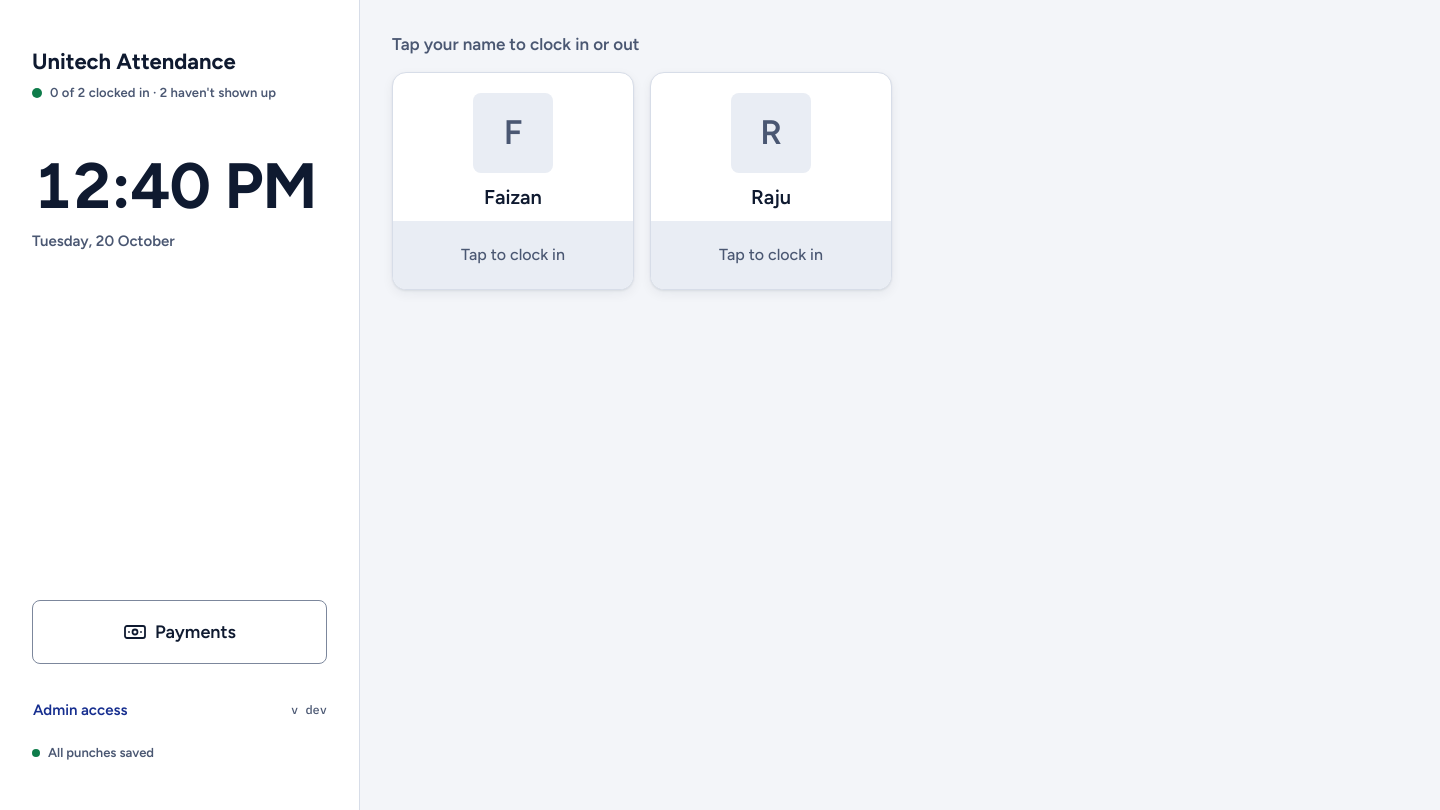
it: Kiosk · payments PIN › says it cannot check offline, and does not count that either
What coordinates should you click on to do the following:
click the button "Payments"
I would click on:
 (180, 632)
Its box is [32,600,327,664].
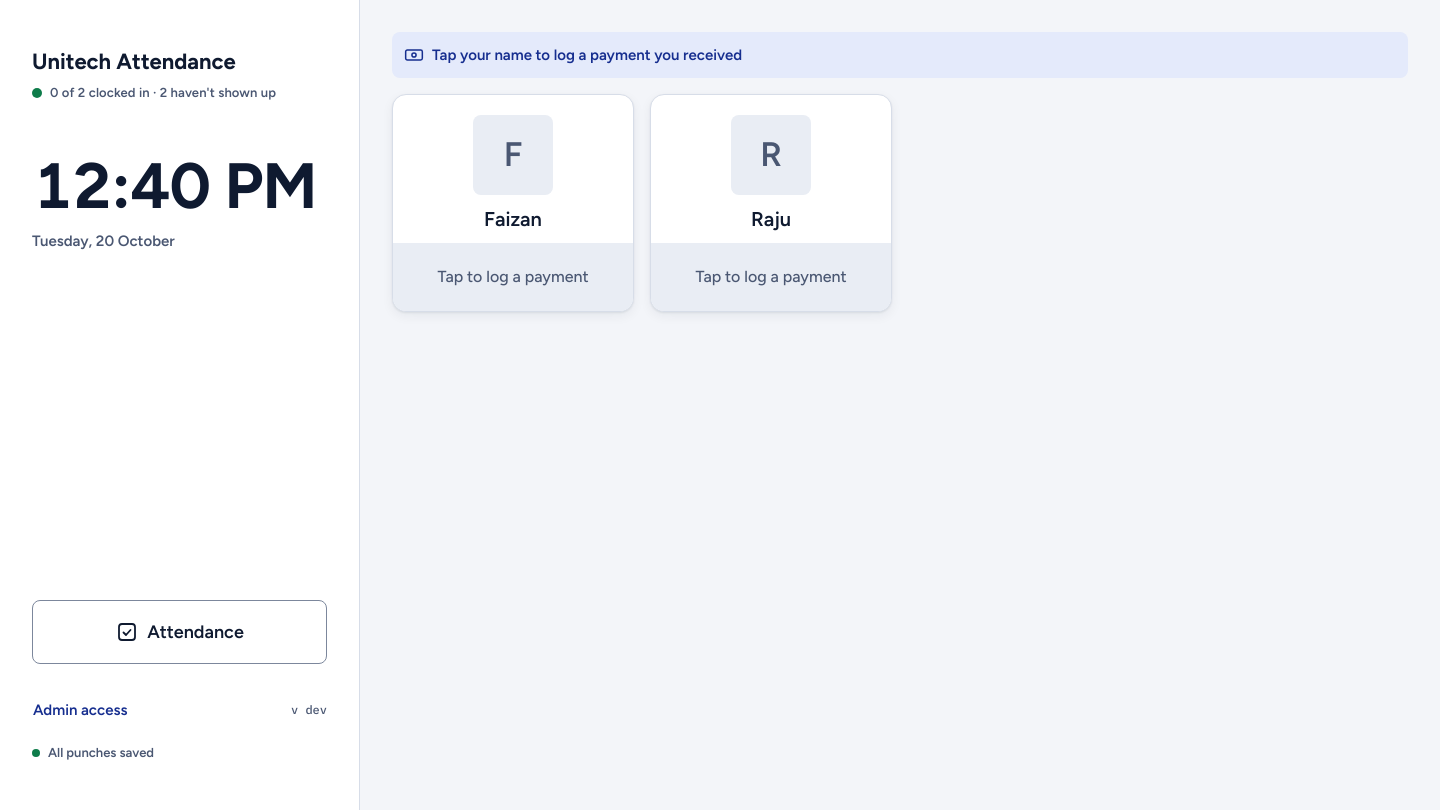
What coordinates should you click on to do the following:
click the button "R Raju Tap to log a payment"
I would click on:
 (771, 203)
Its box is [650,94,892,312].
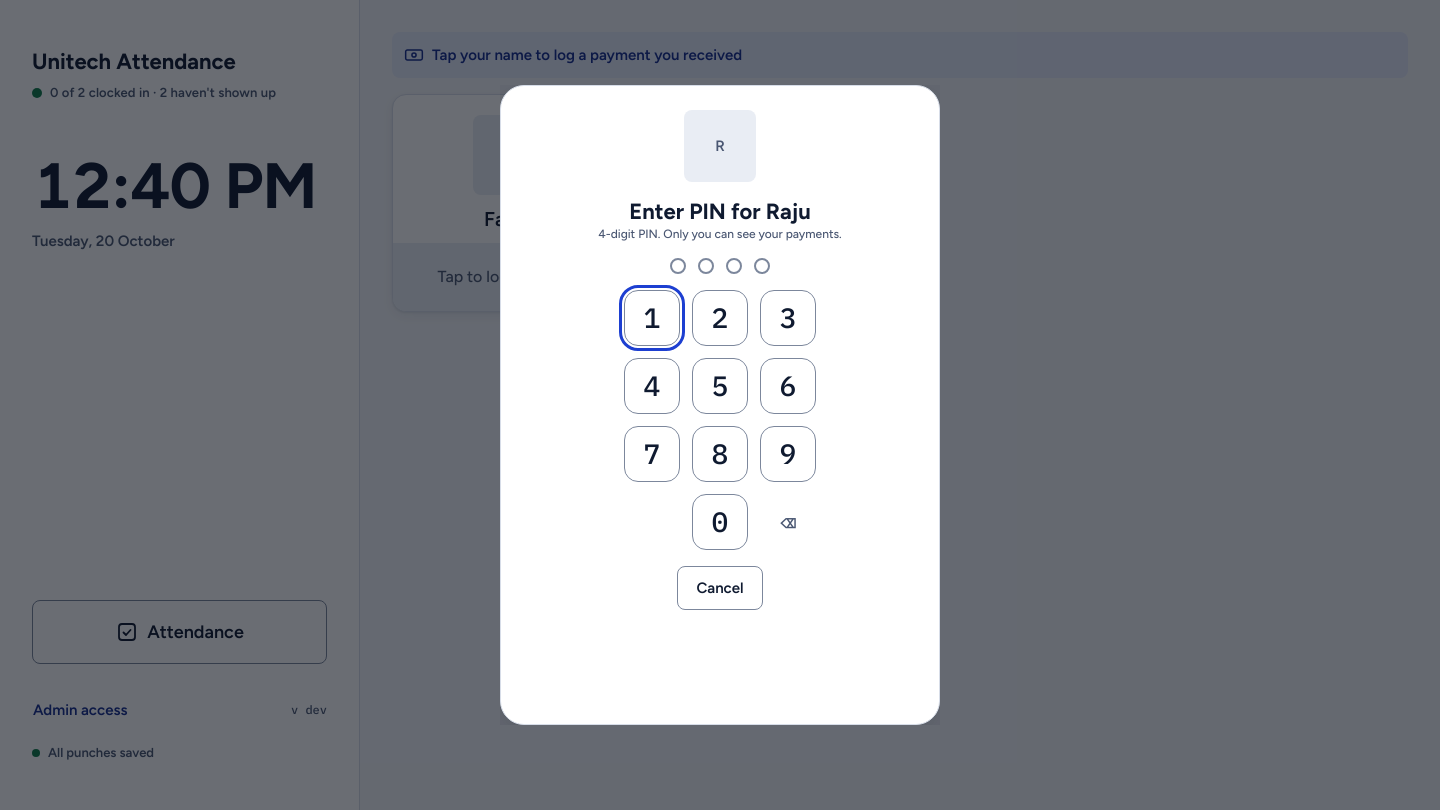
expect the heading "Enter PIN for Raju" is shown: met, box [629,198,811,225]
What coordinates should you click on to do the following:
click the button "4"
I would click on:
 (652, 386)
Its box is [624,358,680,414].
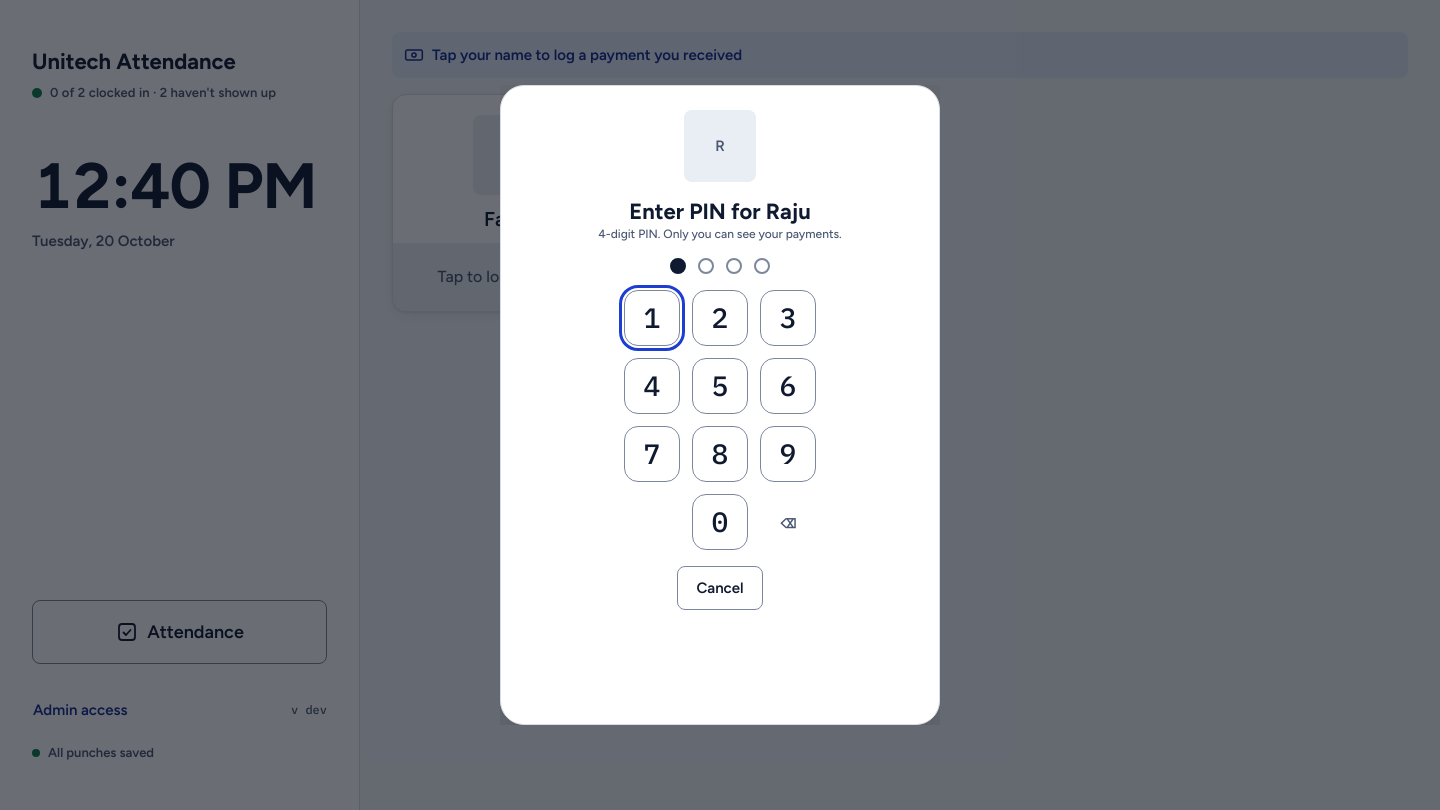
What coordinates should you click on to do the following:
click the button "8"
I would click on:
 (720, 454)
Its box is [692,426,748,482].
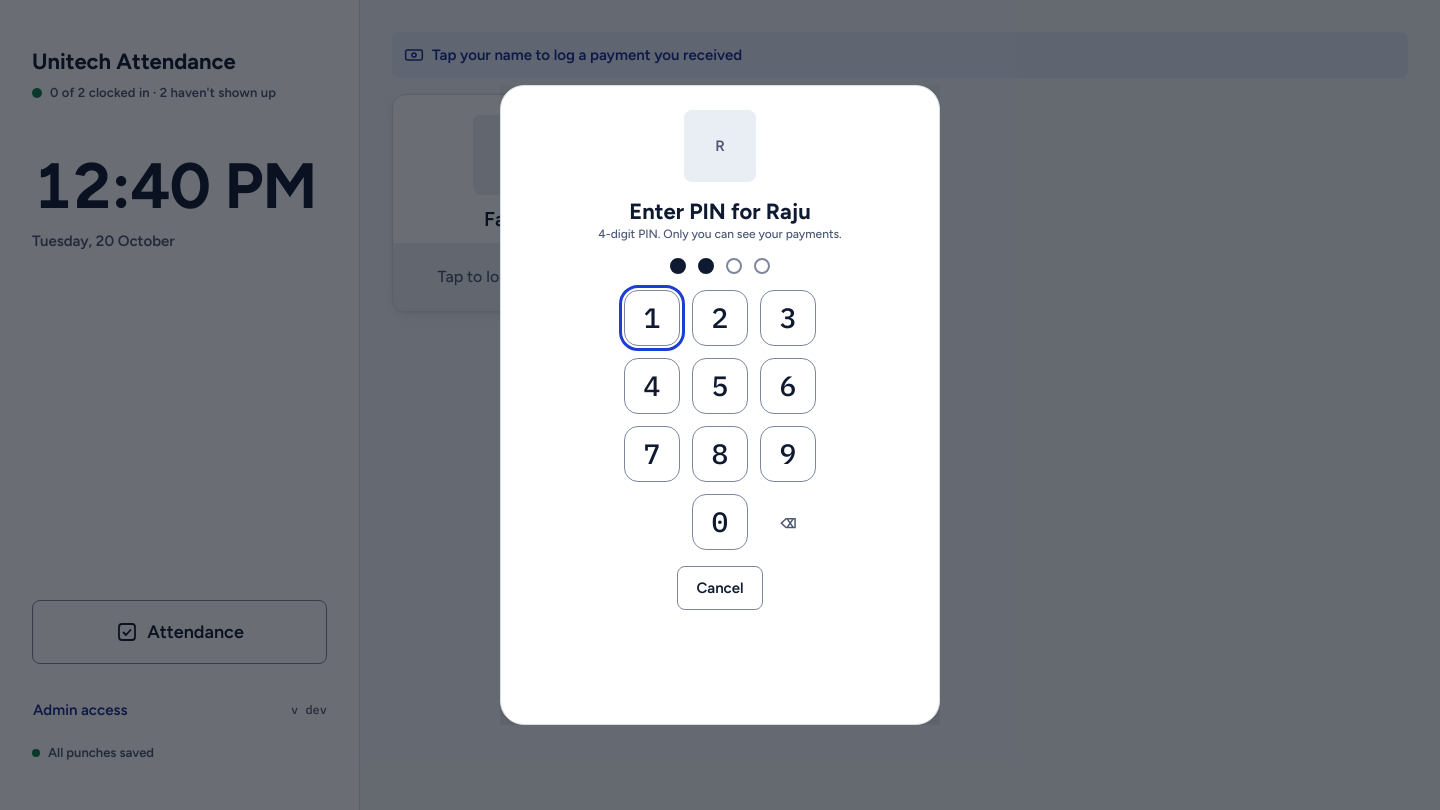
What coordinates should you click on to do the following:
click the button "2"
I would click on:
 (720, 318)
Its box is [692,290,748,346].
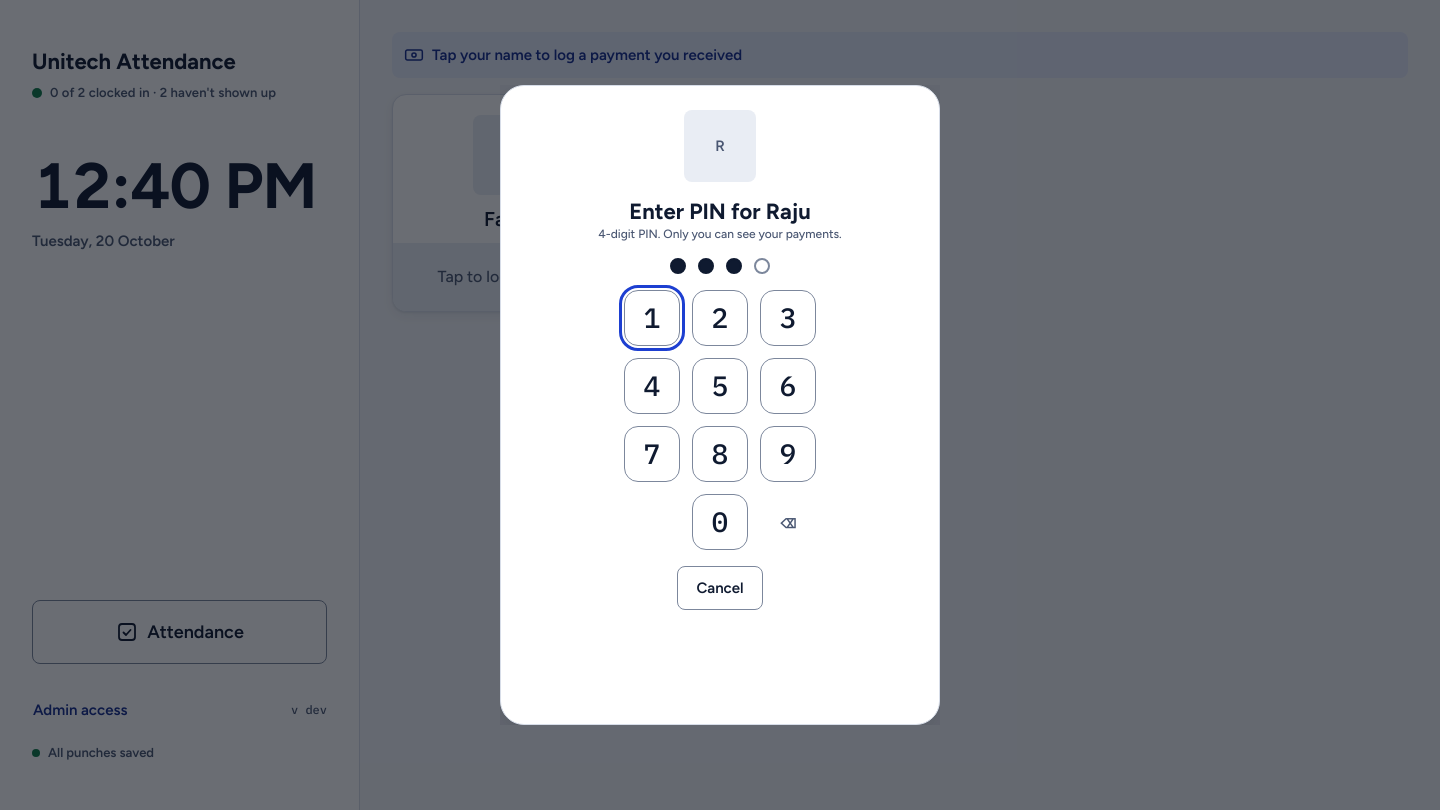
What coordinates should you click on to do the following:
click the button "1"
I would click on:
 (652, 318)
Its box is [624,290,680,346].
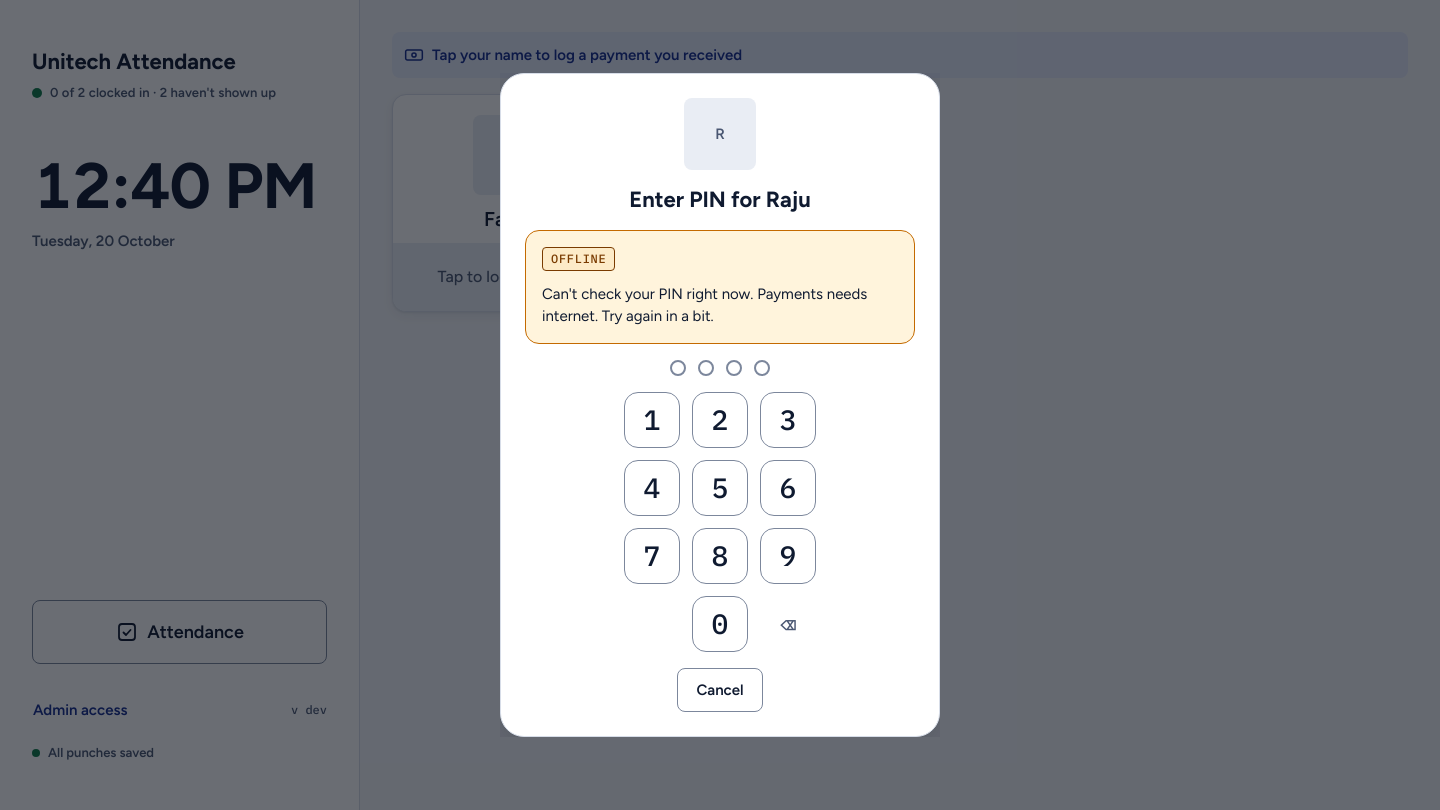
expect the button "4" is enabled: met, box [624,460,680,516]
expect the text "Can't check your PIN right now. Payments needs internet. Try again in a bit." is shown: met, box [542,283,898,327]
